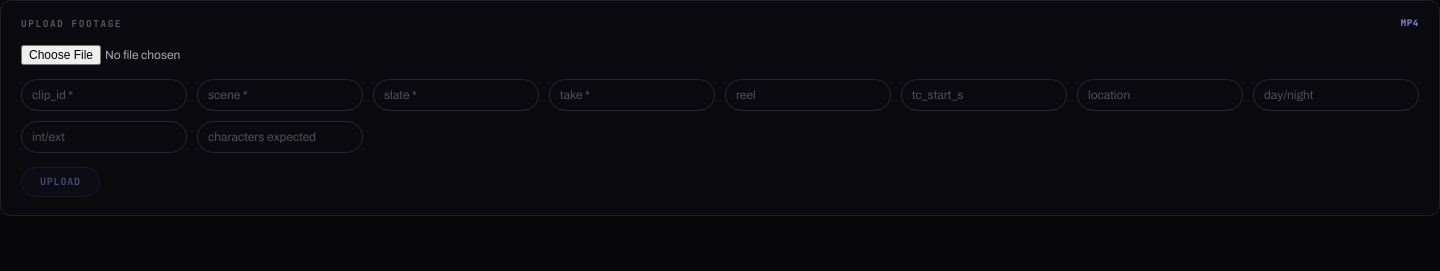
Test: IngestUpload › mode toggle swaps the file input and shows/hides the fps + duration readout
Check: the file field named "MP4 file" is shown, box [21, 44, 255, 64]
Check: the text "FRAMES" is not shown
Click the button "MP4". click: {"x": 1410, "y": 24}
box: [1401, 19, 1419, 28]
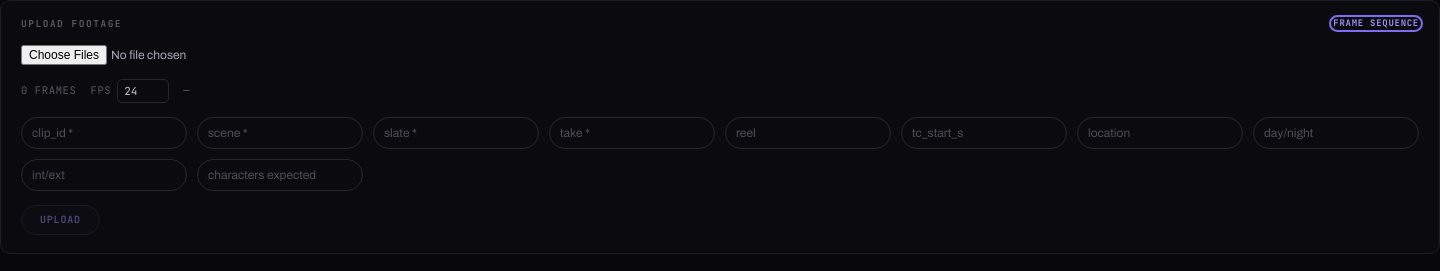
Check: the file field named "Frame files" is shown, box [21, 44, 255, 64]
Check: the text "0 FRAMES" is shown, box [21, 83, 76, 99]
Click the button "FRAME SEQUENCE". click: {"x": 1376, "y": 24}
box: [1333, 19, 1419, 28]
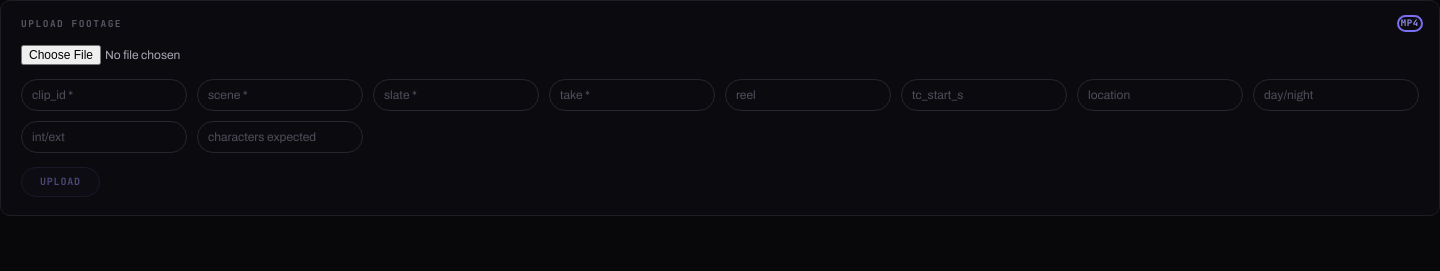
Check: the file field named "MP4 file" is shown, box [21, 44, 255, 64]
Check: the text "FRAMES" is gone
